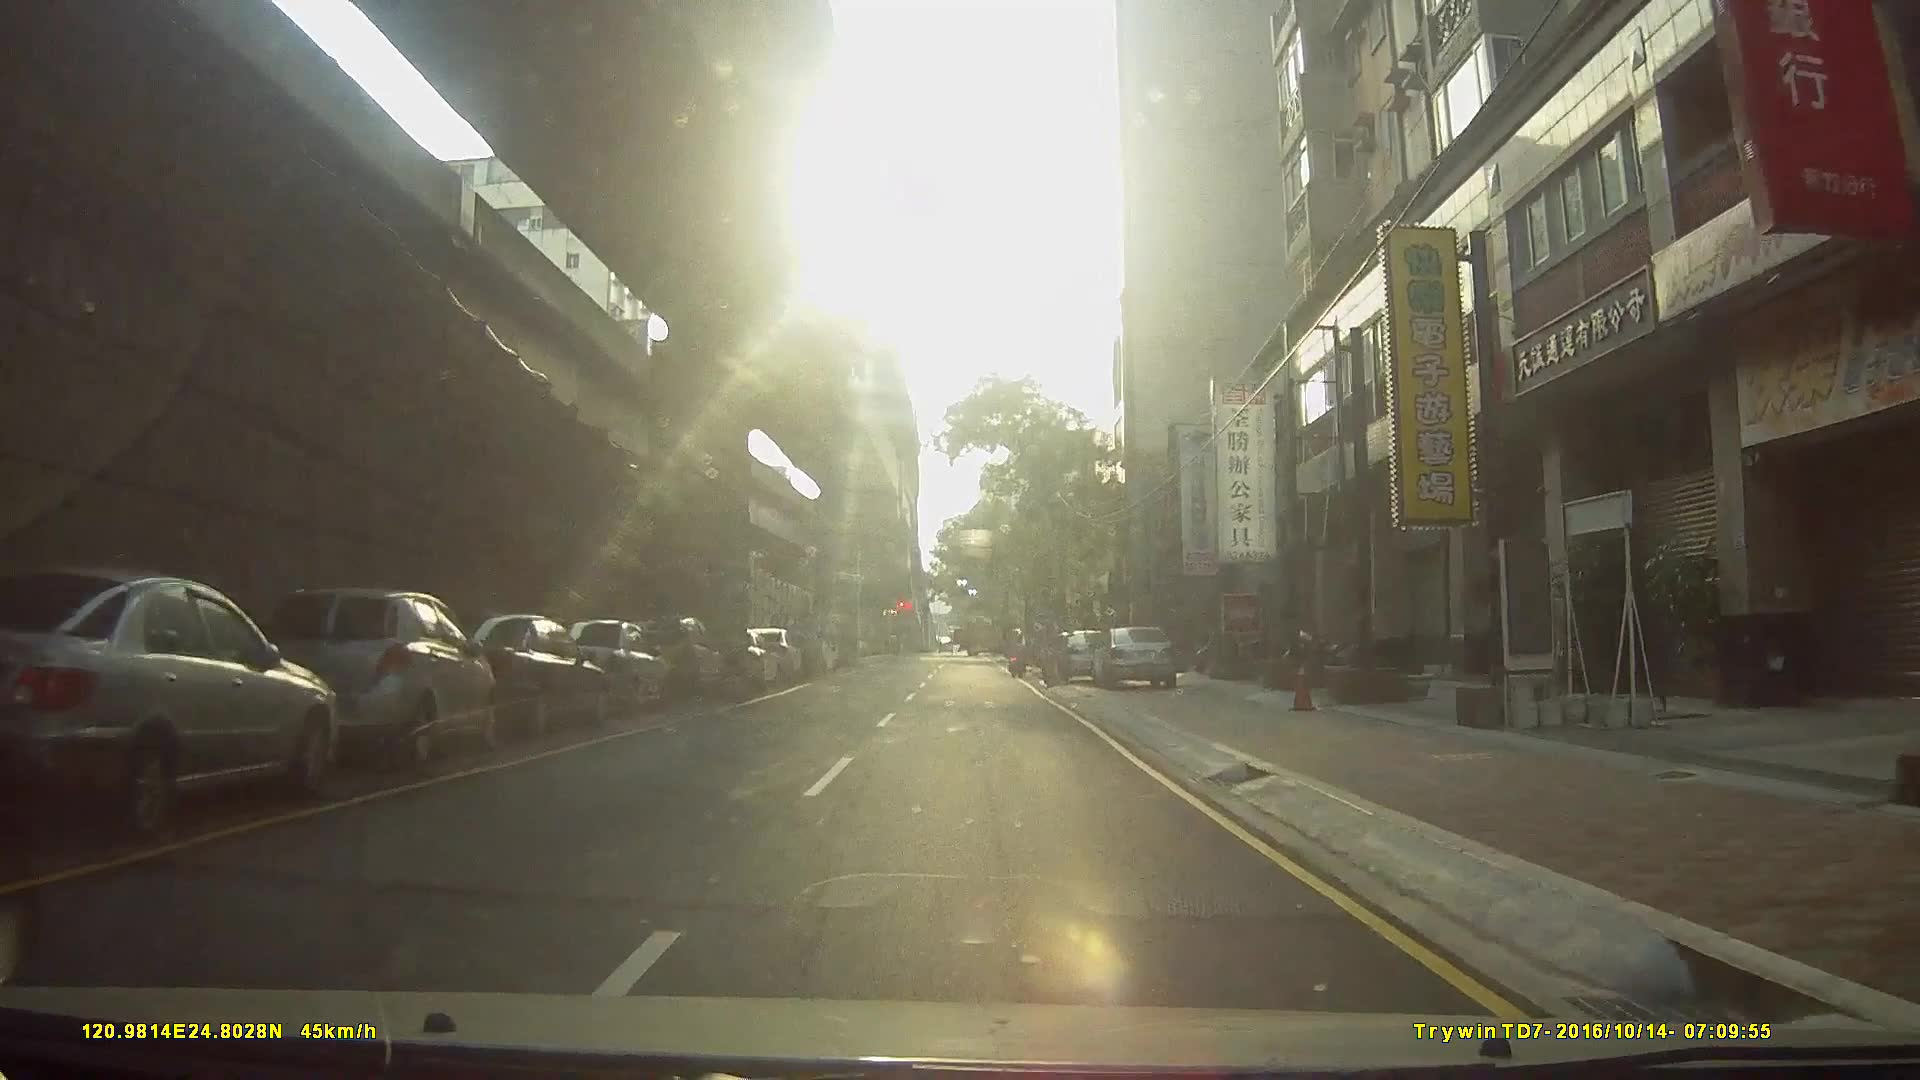vehicle: (1, 564, 353, 839), (224, 584, 485, 769), (433, 611, 604, 744), (545, 615, 669, 717), (621, 612, 723, 709), (1087, 622, 1182, 688), (1039, 625, 1116, 684), (766, 608, 822, 679), (951, 618, 1029, 655)
